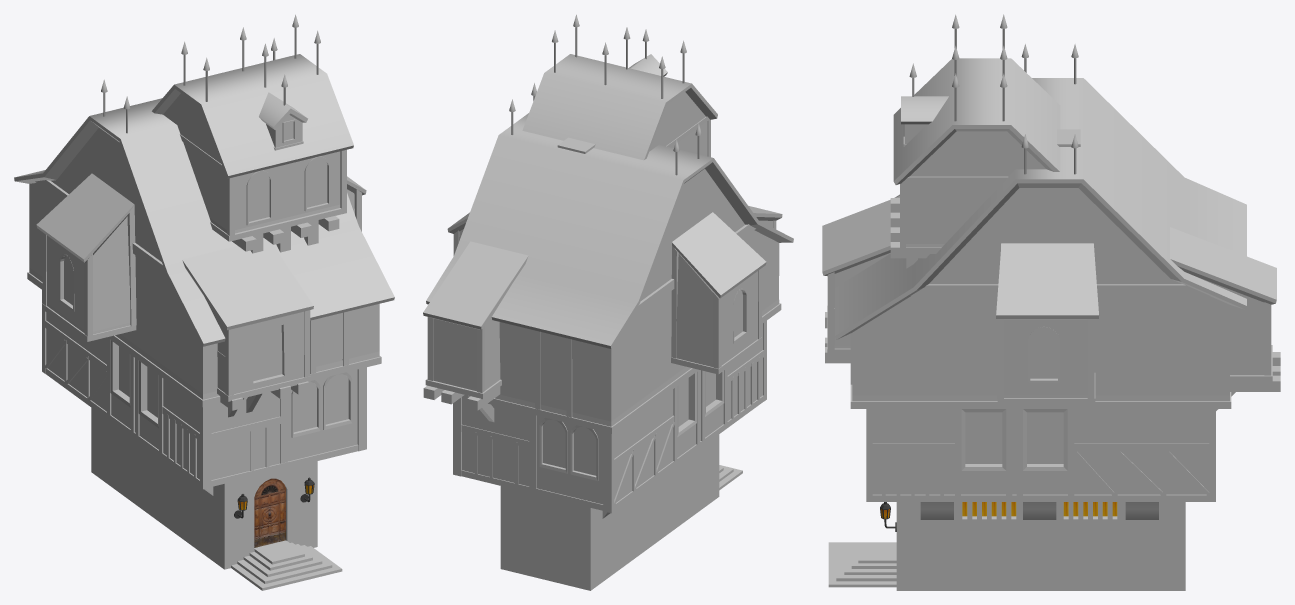
File: House_2.fbx
3 views of the same model, side by side, from view 1: azimuth 30°, elevation 25°; view 2: azimuth 150°, elevation 25°; view 3: azimuth 270°, elevation 25° (orthographic). The views are drawn at different scales.
Visible parts, largest first — view 1: House_2; view 2: House_2; view 3: House_2.
Boxes of the visible parts, left/top/right/bottom form: House_2: left=14, top=14, right=394, bottom=590; House_2: left=423, top=14, right=793, bottom=590; House_2: left=822, top=14, right=1280, bottom=590.
Size of the model in its own units: 33.96 by 56.25 by 43.86.
